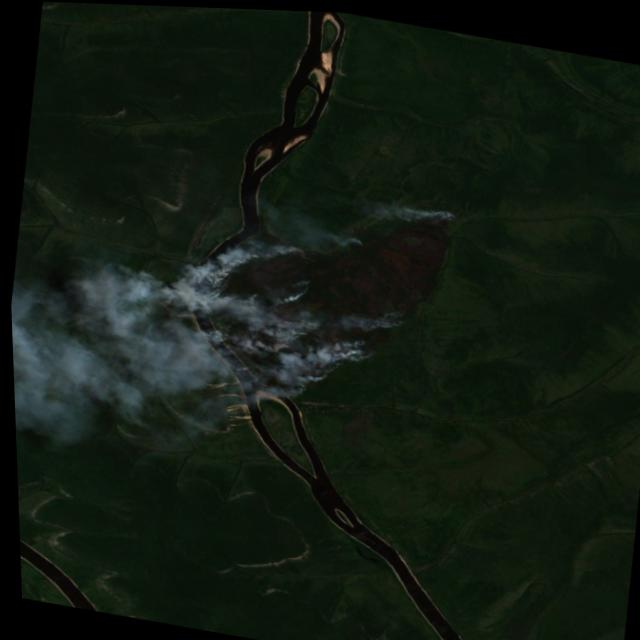fire: (181, 166, 464, 421)
